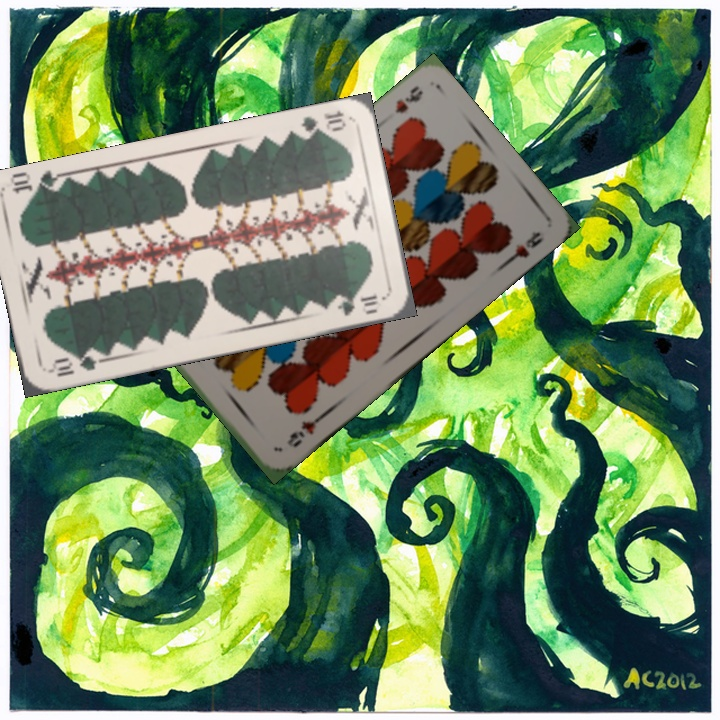G10: (45, 349, 104, 380), (297, 106, 349, 139)
H9: (282, 411, 327, 450), (391, 81, 426, 116)
